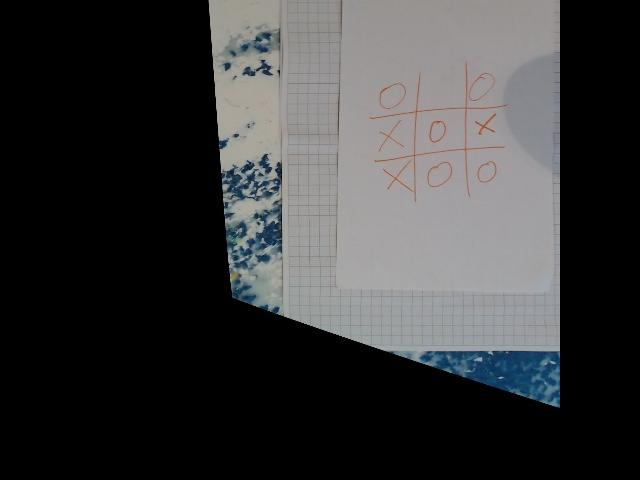O: (372, 80, 408, 111), (465, 70, 497, 104), (421, 118, 448, 146), (427, 160, 452, 190), (472, 162, 500, 186)
X: (372, 120, 405, 151), (381, 162, 410, 194), (472, 113, 497, 137)
grid: (367, 66, 512, 209)
